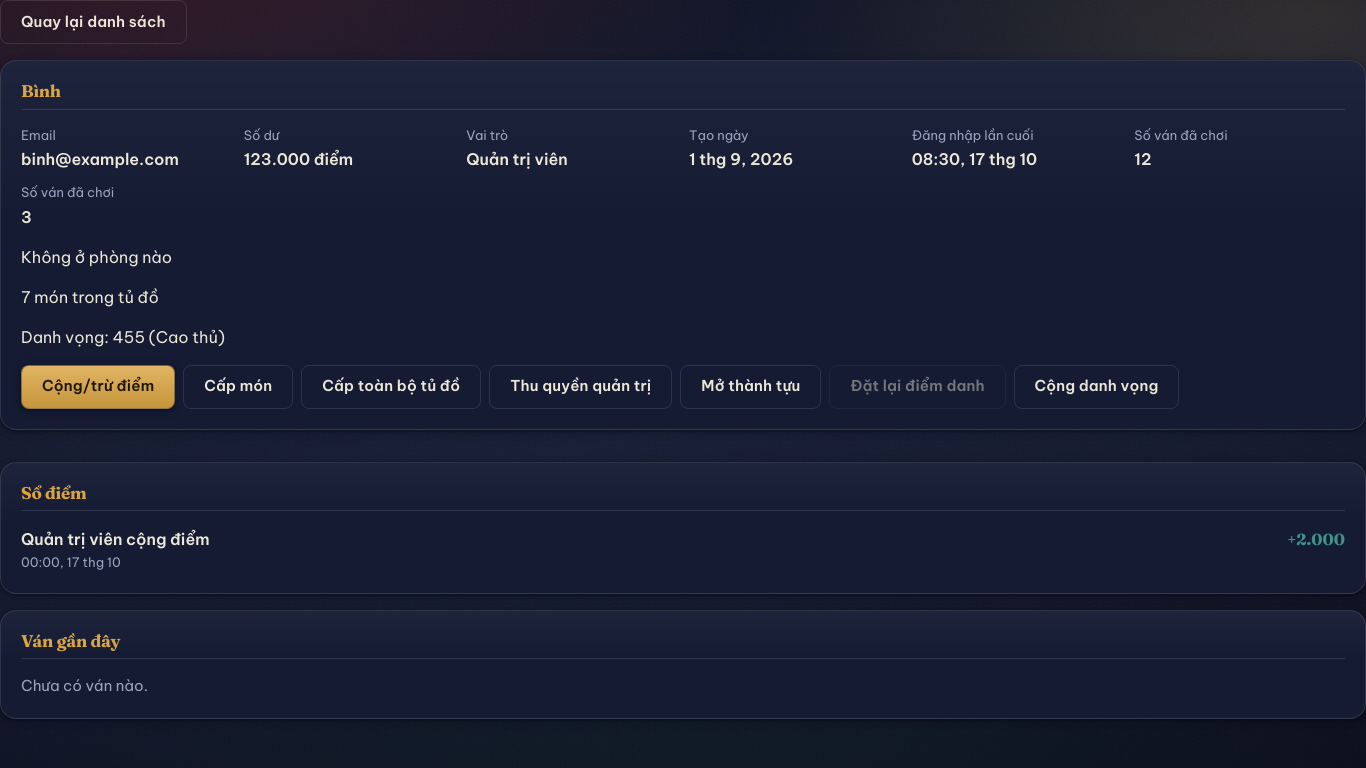
Test: PlayerDetail › prints the server refusal inside the dialog and keeps it open
Check: the text "binh@example.com" is shown, box left=21, top=149, right=179, bottom=169
Click the button "Thu quyền quản trị".
click(581, 386)  # box left=489, top=364, right=672, bottom=408
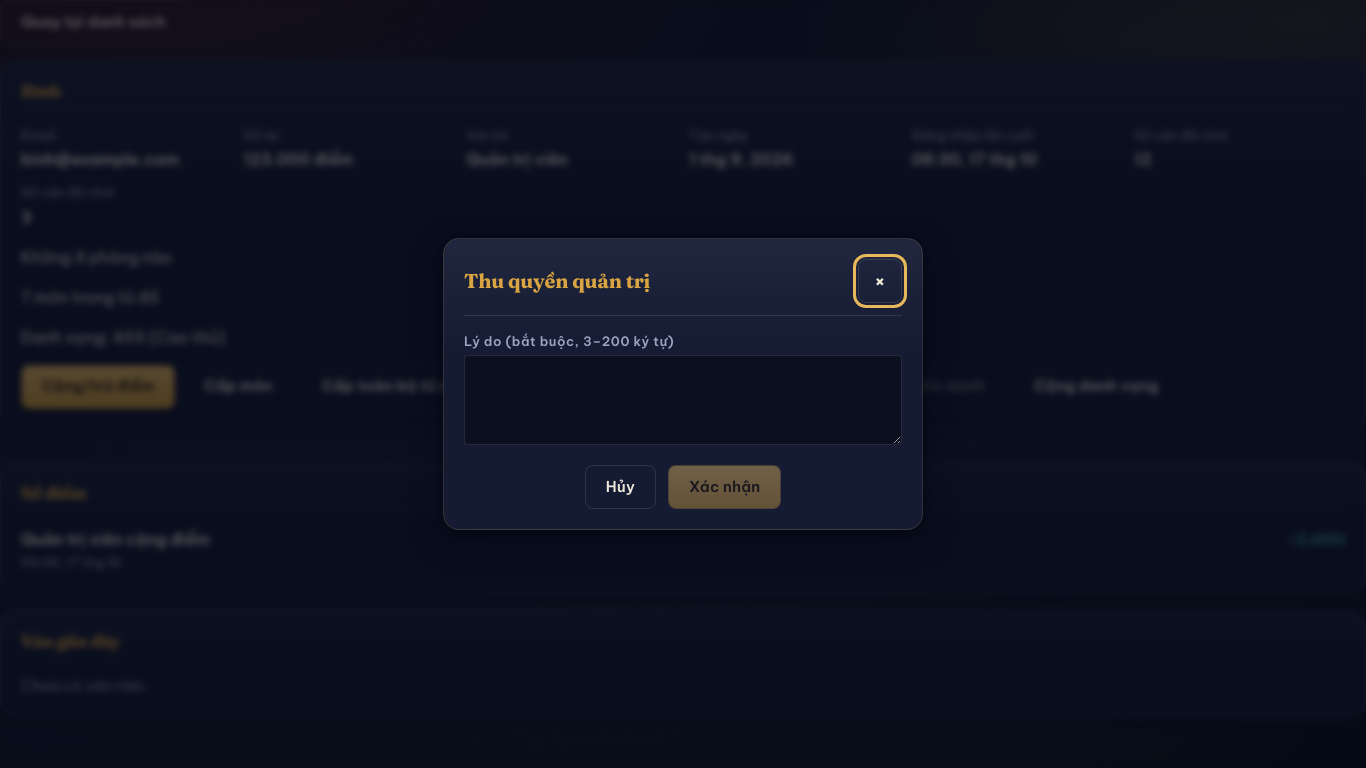
Type "nghỉ việc" into the text box labelled "Lý do (bắt buộc, 3–200 ký tự)".
click(683, 400); type("nghỉ việc")  # box left=464, top=355, right=902, bottom=445
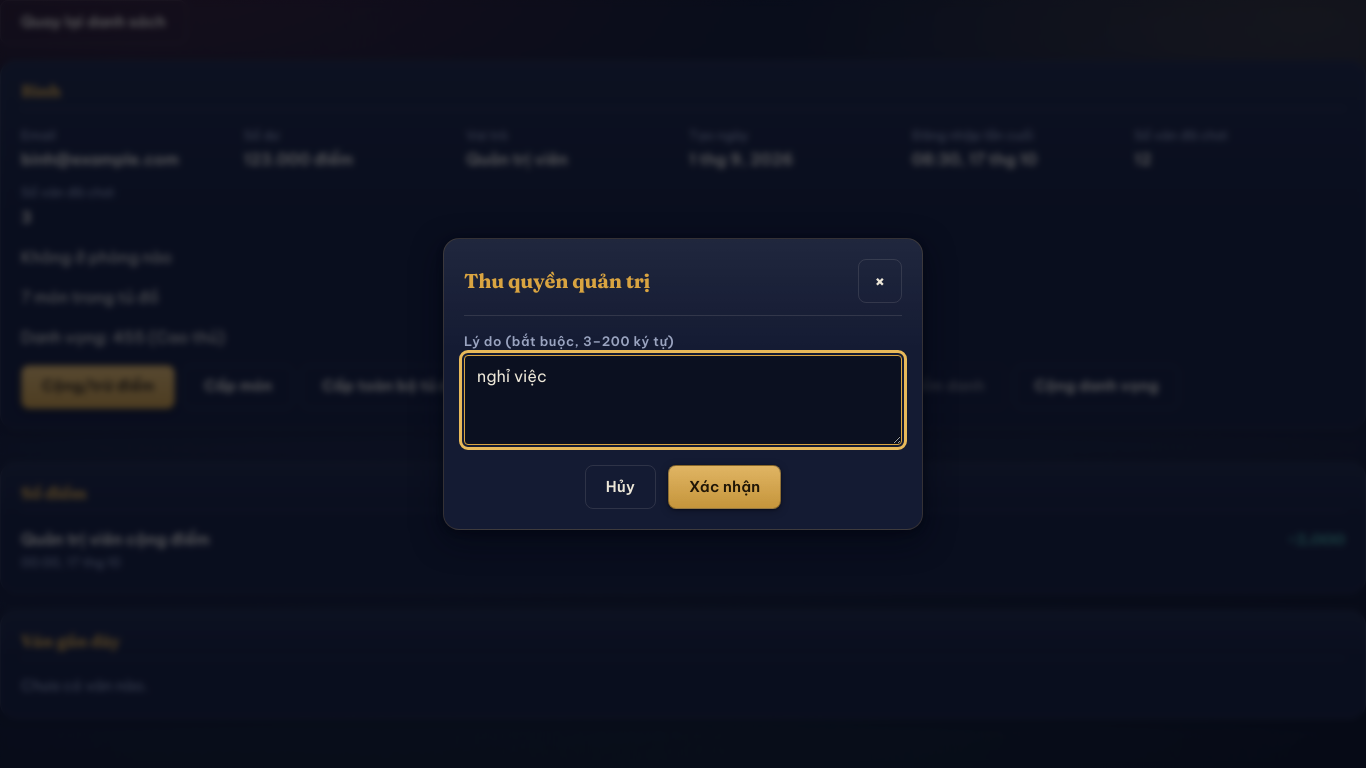
Click the button "Xác nhận".
click(725, 487)  # box left=668, top=465, right=781, bottom=509
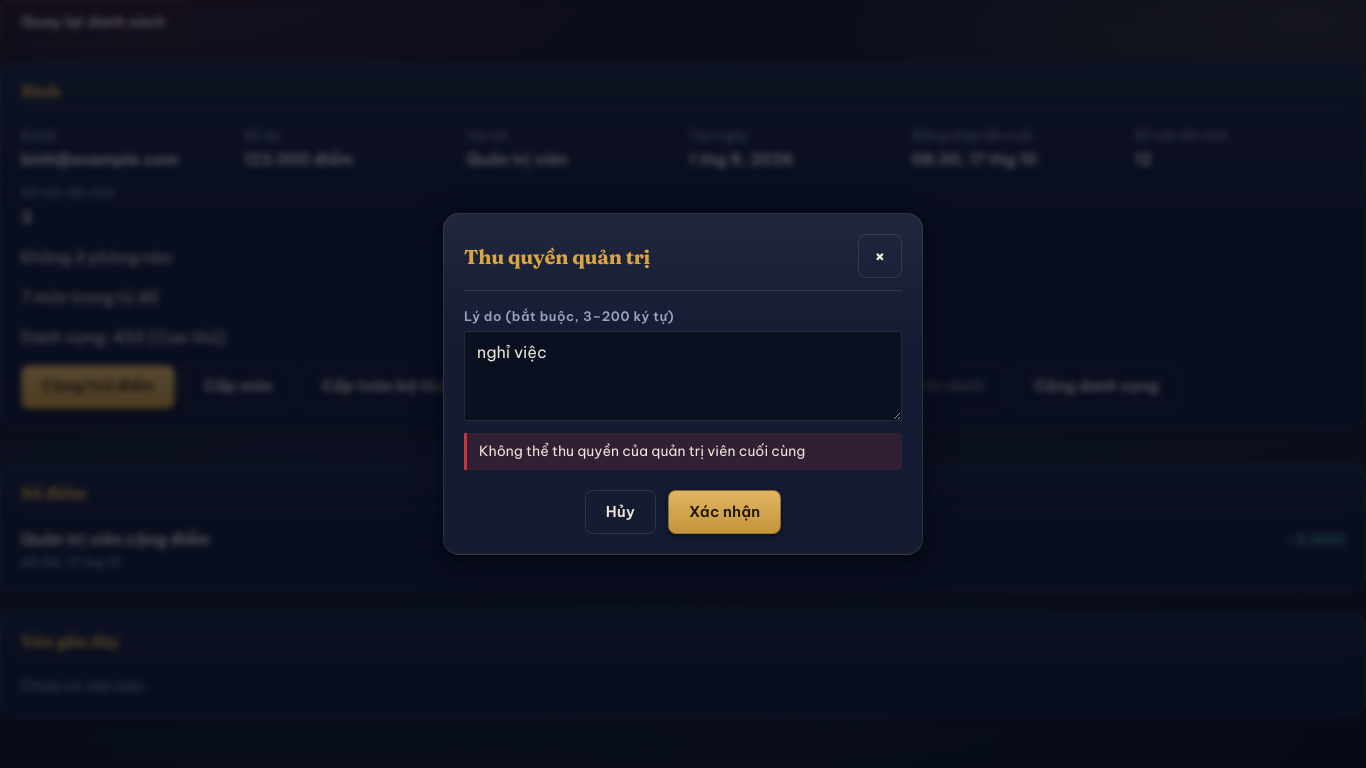
Check: the message reads "Không thể thu quyền của quản trị viên cuối cùng", box left=479, top=442, right=805, bottom=460
